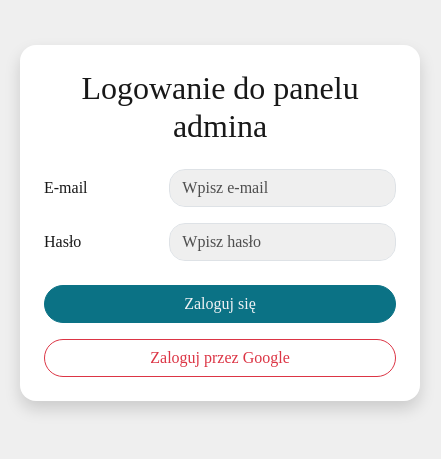
Test: AdminLogin Page › shows error message on login failure
Step 1. Type "user@example.com" into the field labelled "E-mail" → (283, 188), box [169,169,396,207]
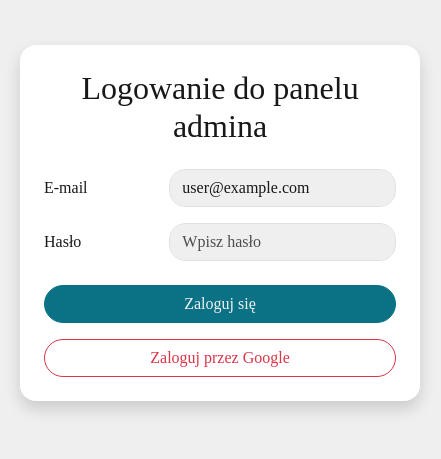
Step 2. Type "wrongpassword" into the password field labelled "Hasło" → (283, 242), box [169,223,396,261]
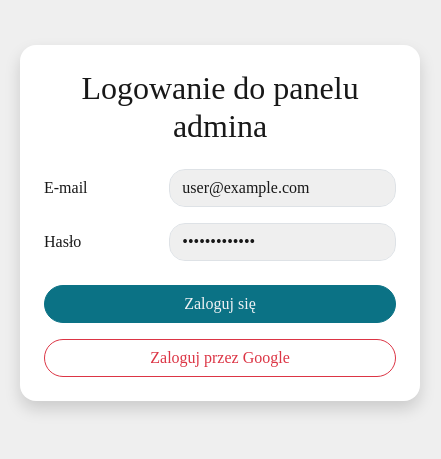
Step 3. Click the button "Zaloguj się" → (220, 304), box [44,285,396,323]
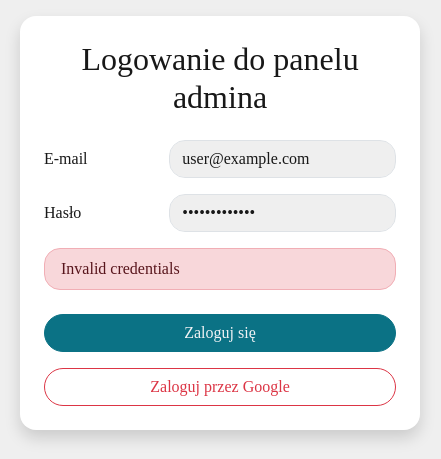
Now the text "Invalid credentials" is shown, box [44,248,396,290]
